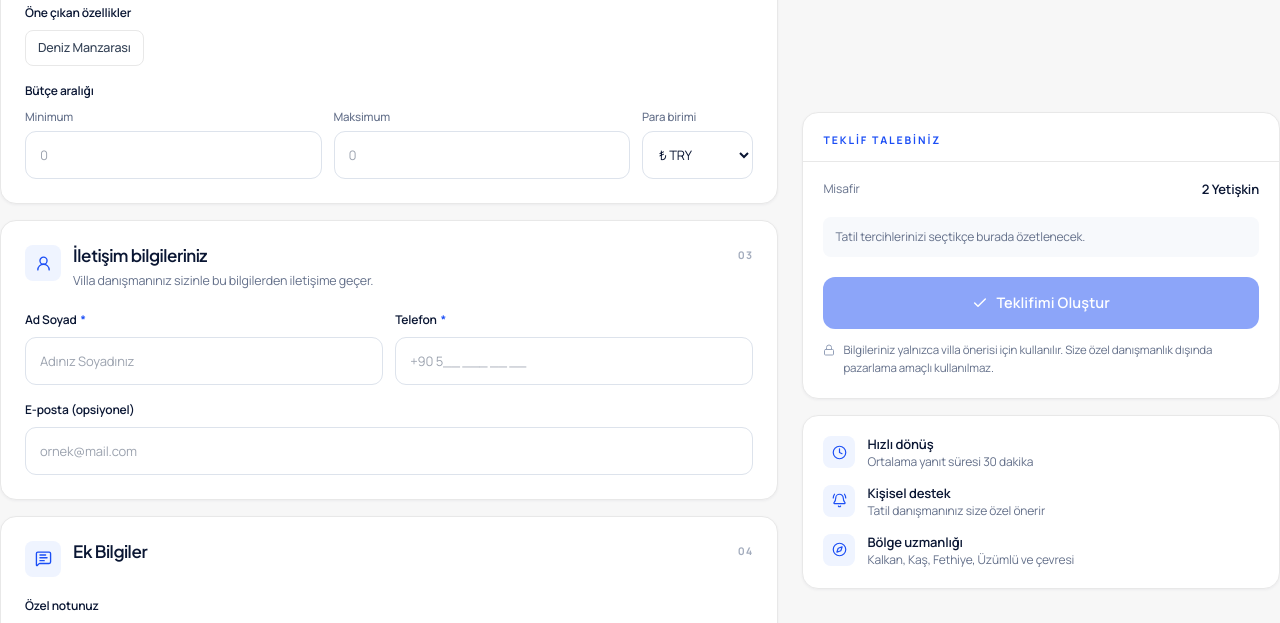
2) UI redesign sonrası mevcut form state ve submit davranışı DEĞİŞMEDİ › submit yalnız ad ≥2 + telefon ≥6 ile aktif
(page scrolled)
Expected: the button "Teklifimi Oluştur" is disabled, [823,277,1259,329]
In the field with placeholder "Adınız Soyadınız": coordinates (204, 361) [25,337,383,385], type "A"
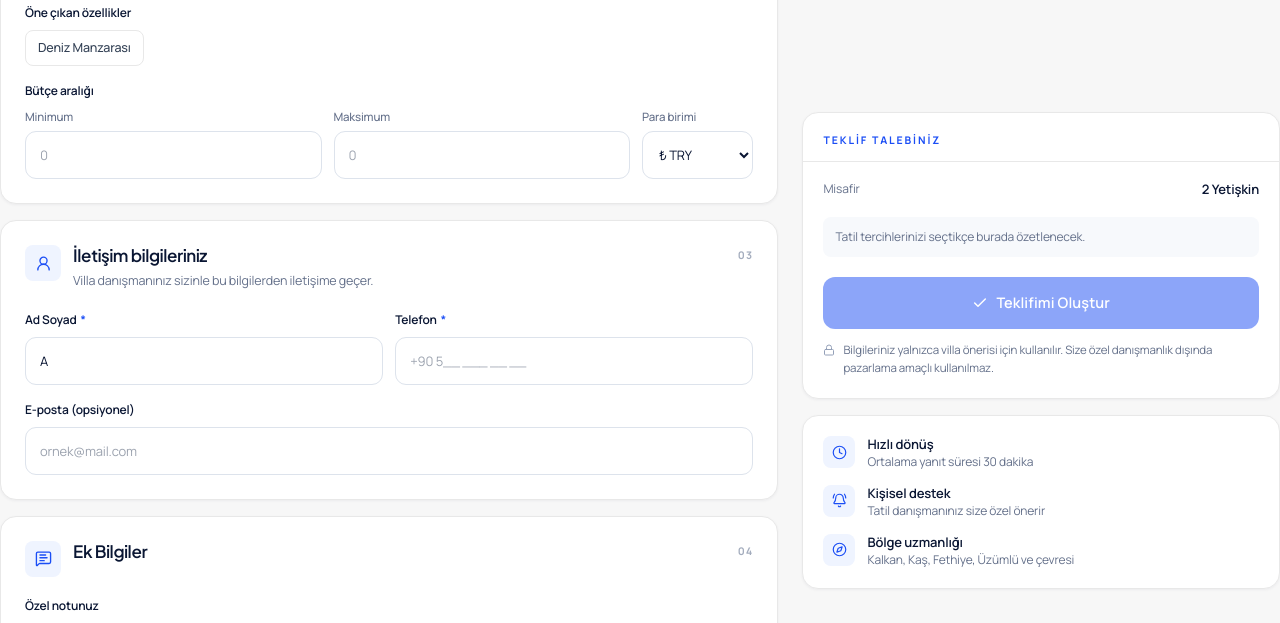
In the field with placeholder "+90 5__ ___ __ __": coordinates (574, 361) [395,337,753,385], type "123456"
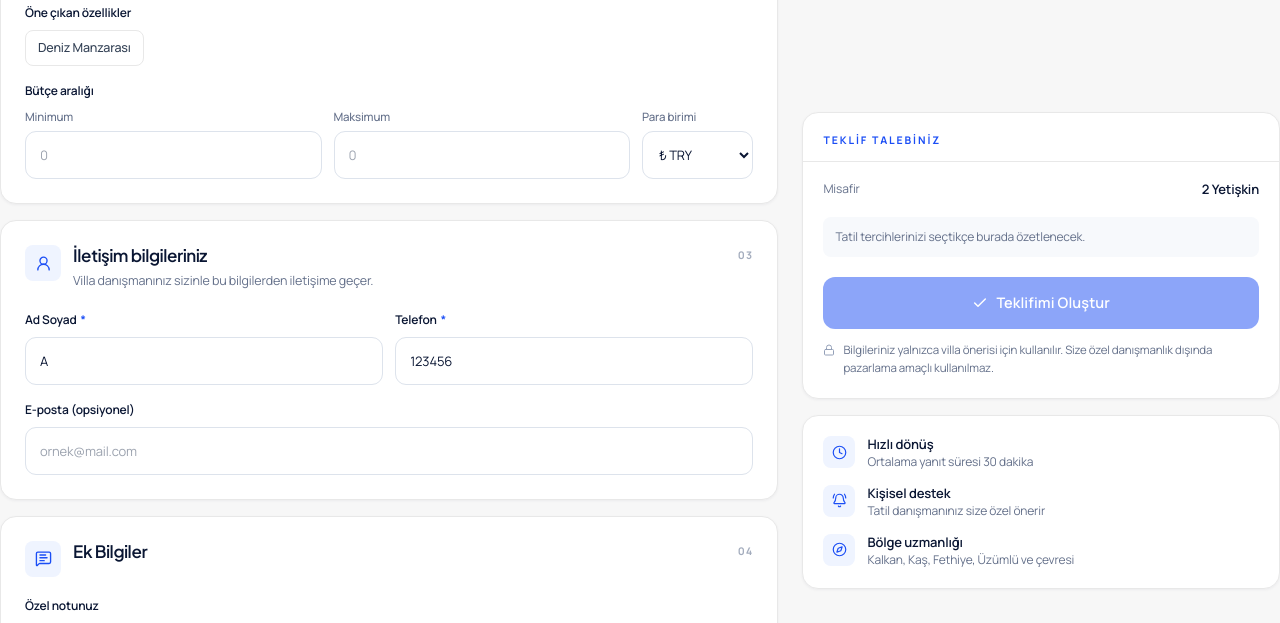
Expected: the button "Teklifimi Oluştur" is disabled, [823,277,1259,329]
Replace the text in the field with placeholder "Adınız Soyadınız" below "Ad Soyad" with "Ay": coordinates (204, 361) [25,337,383,385]
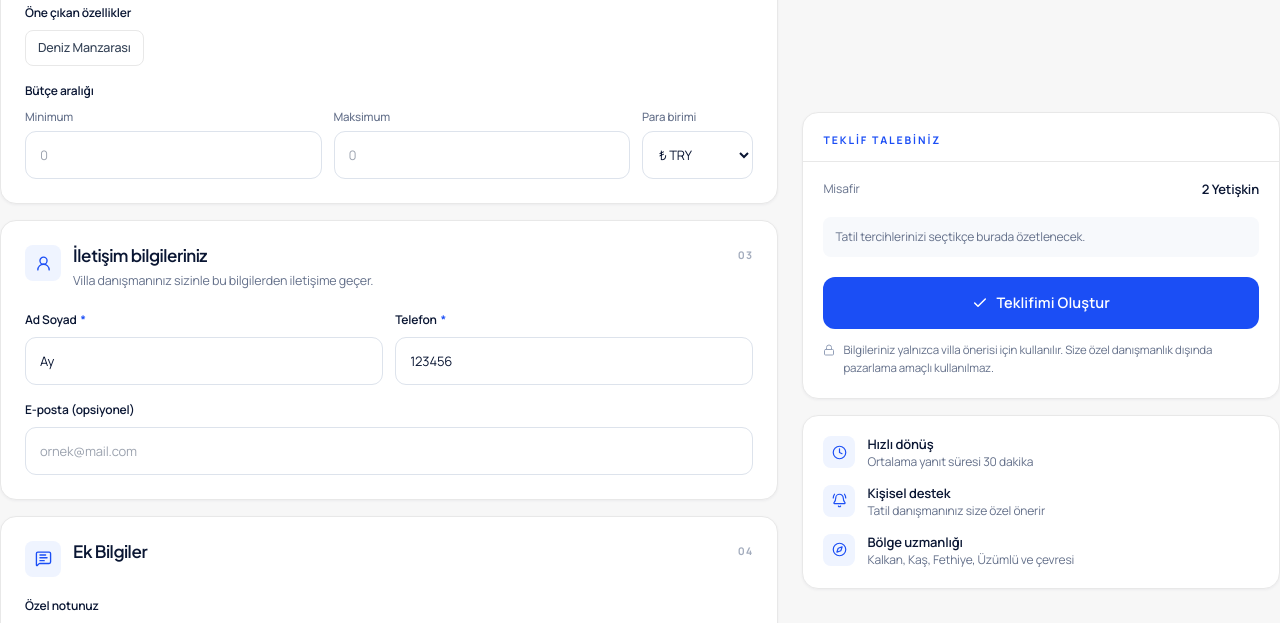
Result: the button "Teklifimi Oluştur" is enabled at [823,277,1259,329]
